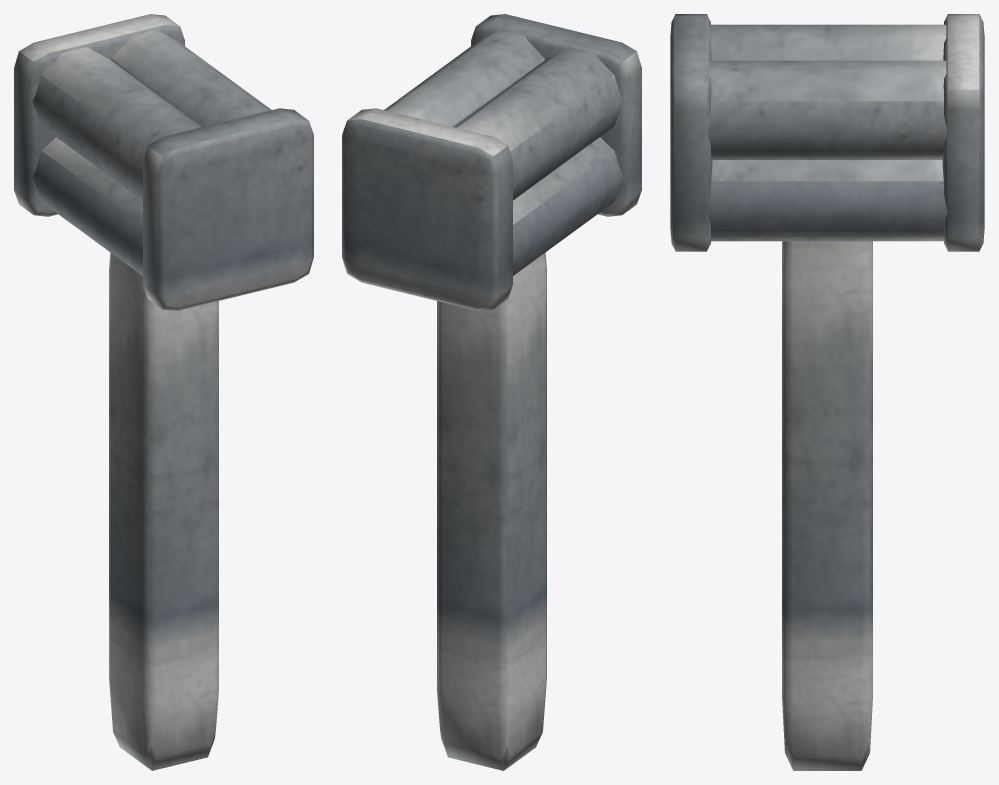
File: gun1.FBX
The picture shows the model from 3 angles, left to right: view 1: azimuth 30°, elevation 25°; view 2: azimuth 150°, elevation 25°; view 3: azimuth 270°, elevation 25°; orthographic projection. The views are drawn at different scales.
Parts seen in each view (by area): view 1: gun1; view 2: gun1; view 3: gun1.
Boxes of the visible parts, x1,y1,x2,y2 form: gun1: (14,14,313,770); gun1: (342,14,641,770); gun1: (670,14,984,770).
Size of the model in its own units: 21 by 34.63 by 86.31.
Materials: 1 (1 with a texture image).
